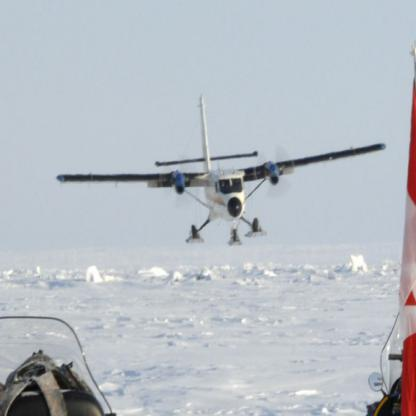CIV_Plane: (46, 90, 389, 254)
